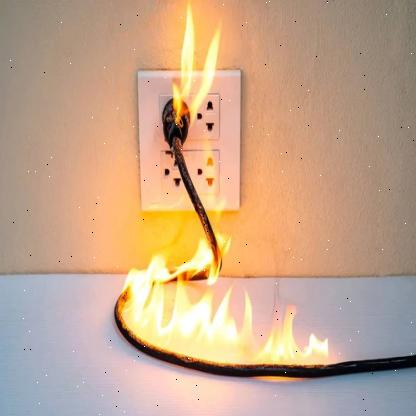fire: (113, 197, 333, 373), (168, 9, 218, 106)
